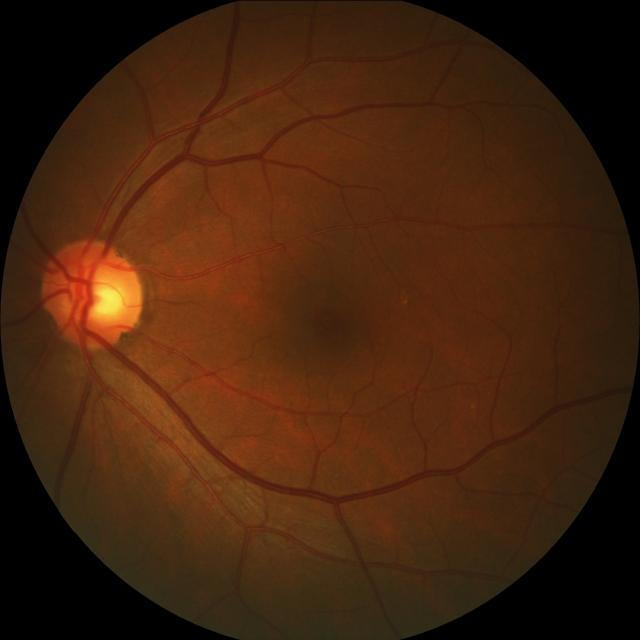OC: (61, 260, 127, 328)
OD: (39, 237, 147, 351)
